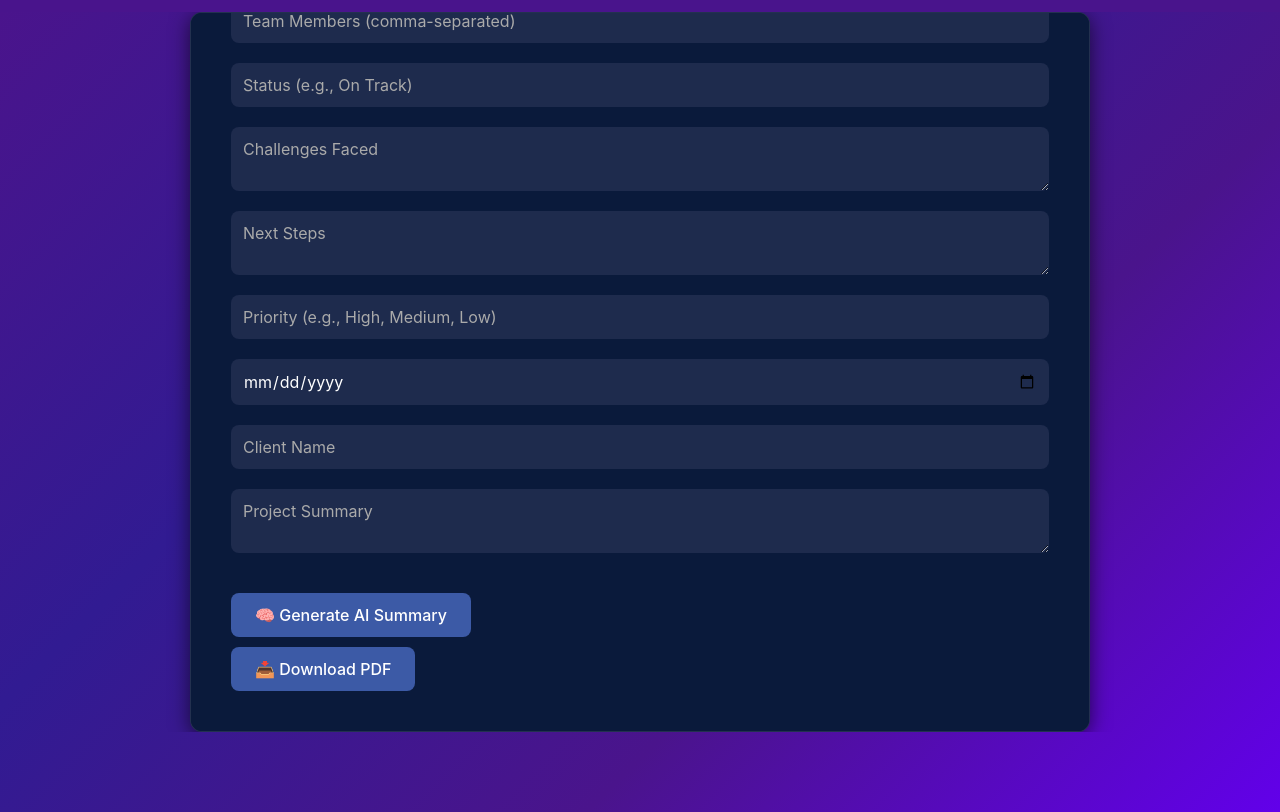
Test case: ReportGenerator › generates AI summary
(page scrolled)
Click the button "🧠 Generate AI Summary".
click(351, 615)  # box [231,593,471,637]
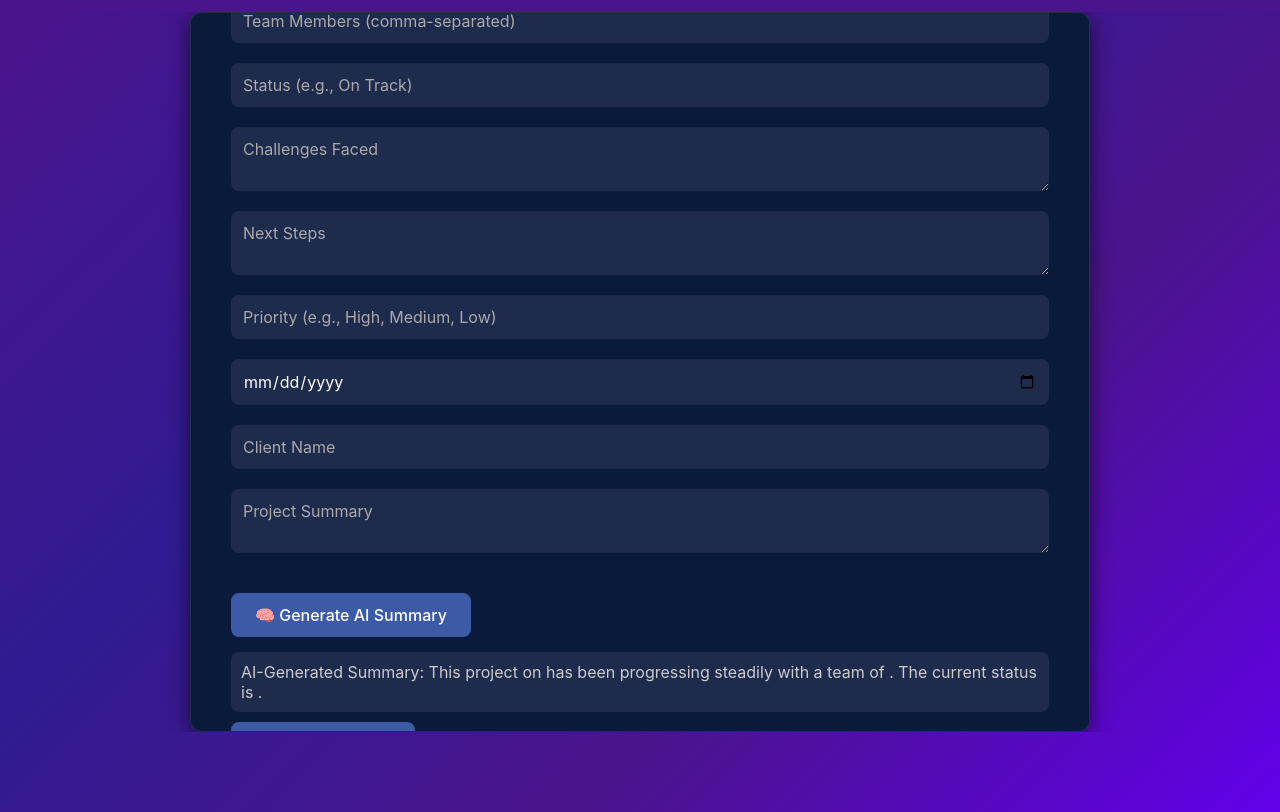
Expected: the text "AI-Generated Summary" is shown, [241,662,1037,702]
